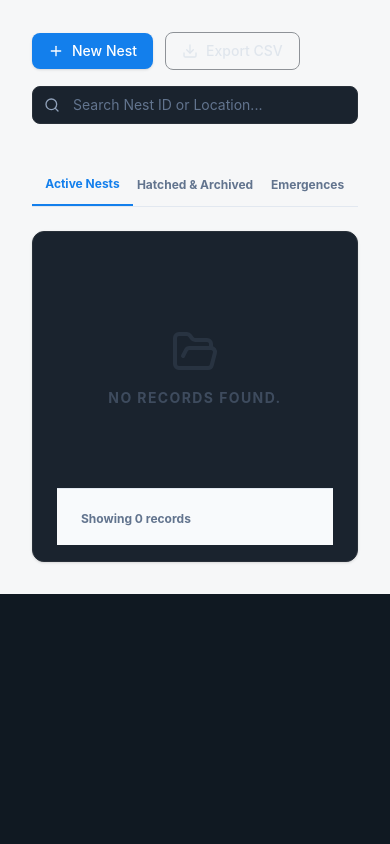
Test: Records (nest) incubation day count prefers first_emergence_at over hatched_at (QA-145) › uses first_emergence_at (60d), not the later hatched_at (90d), when both are present
The width and height of the screenshot is (390, 844).
Click the button "Hatched & Archived": (195, 185) [133,164,257,206]
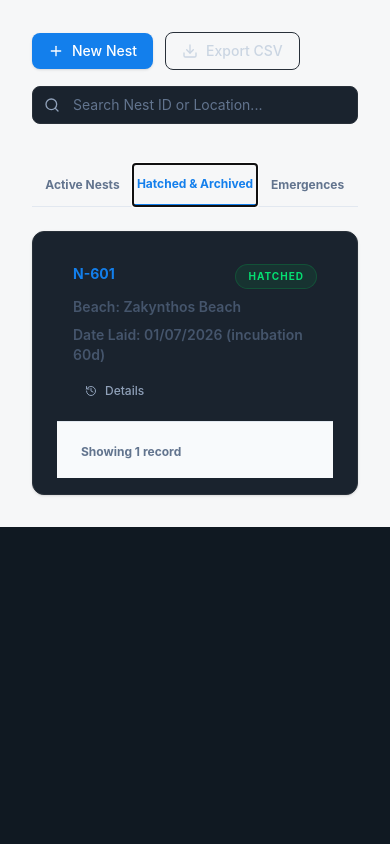
Expected: the element with test id "nest-cards" shows "incubation 60d", [73,326,303,363]
